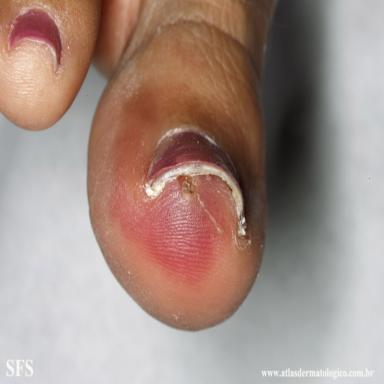Tungiasis: (177, 176, 223, 233)
